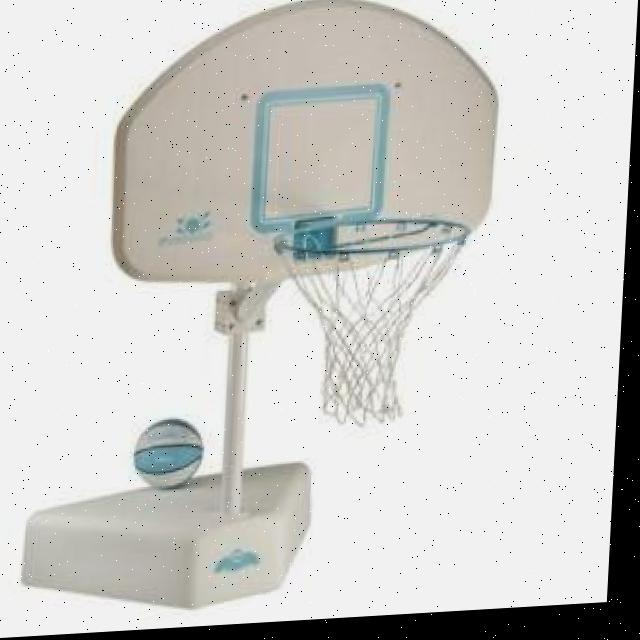basketball: (134, 415, 206, 491)
hoop: (265, 210, 473, 433)
